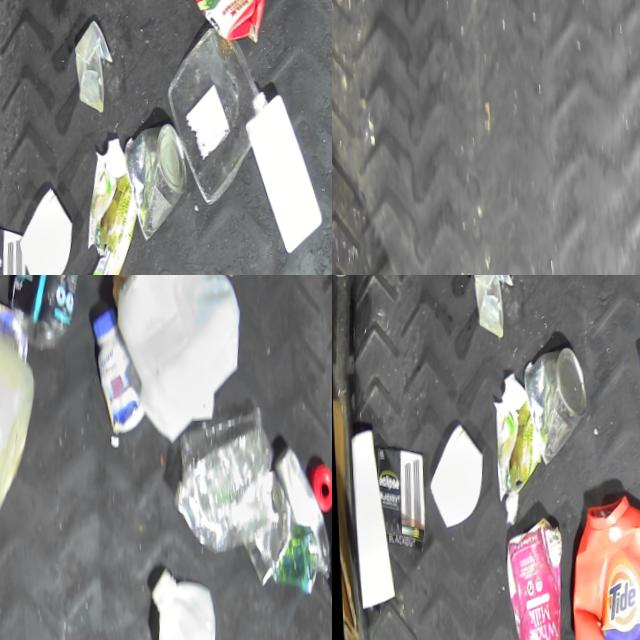can: (516, 330, 591, 473), (120, 122, 187, 241), (0, 297, 27, 362)
milk_jug: (110, 275, 244, 444), (238, 83, 322, 253), (0, 298, 39, 524), (137, 564, 219, 640)
non_white_jug: (558, 478, 640, 640), (170, 0, 268, 50)
